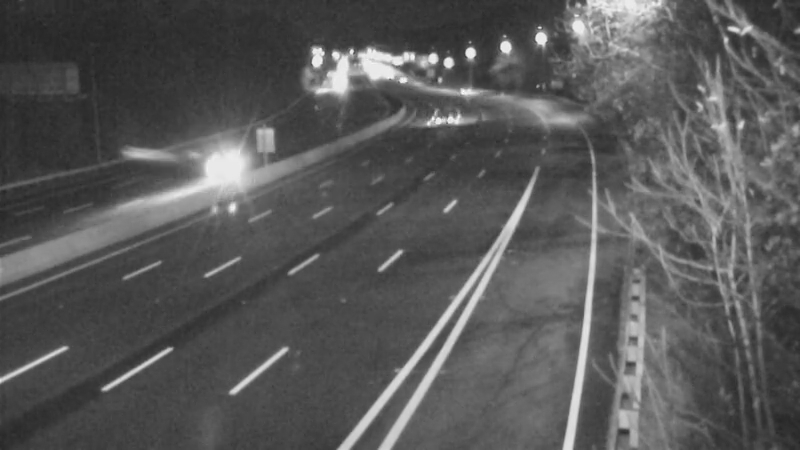vehicle: (181, 133, 261, 213), (436, 64, 486, 114), (419, 93, 469, 143)
